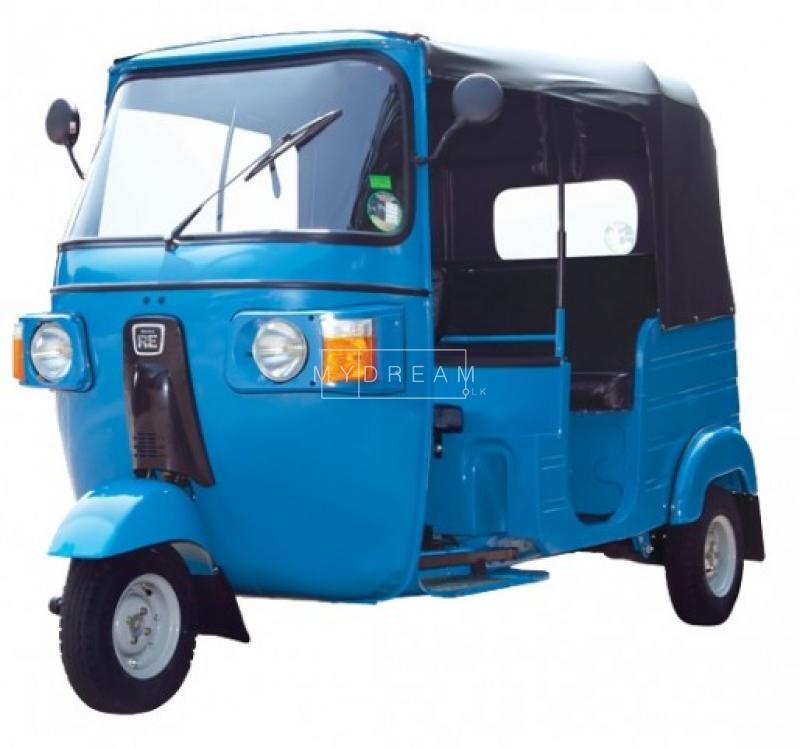threewheel: (9, 25, 765, 715)
